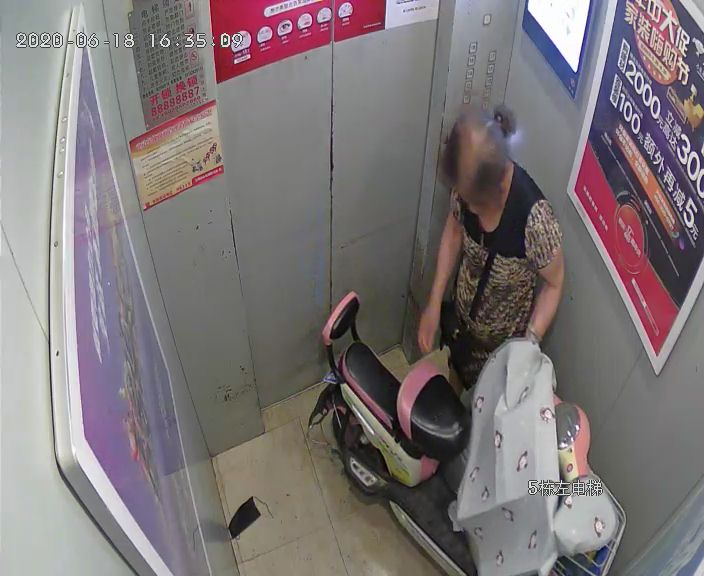Electric-bicycle: (324, 300, 623, 576)
